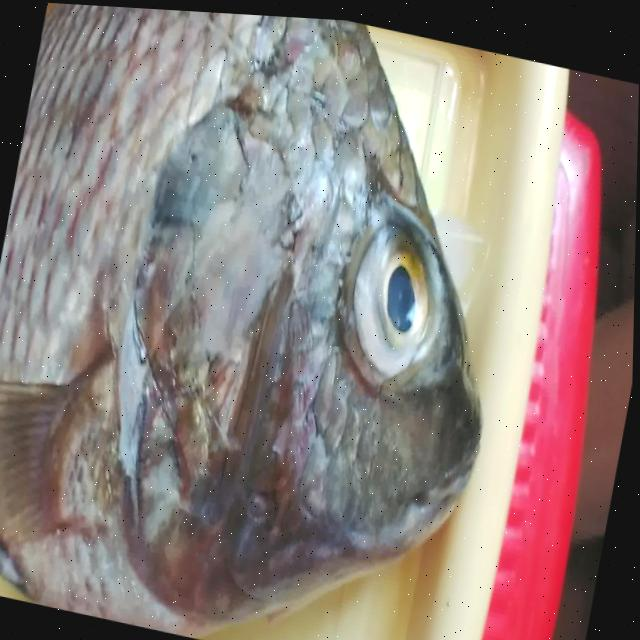Fresh: (315, 184, 474, 406)
